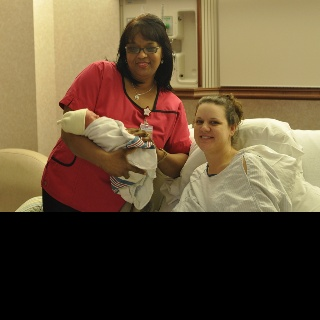without_mask: (193, 101, 230, 152)
